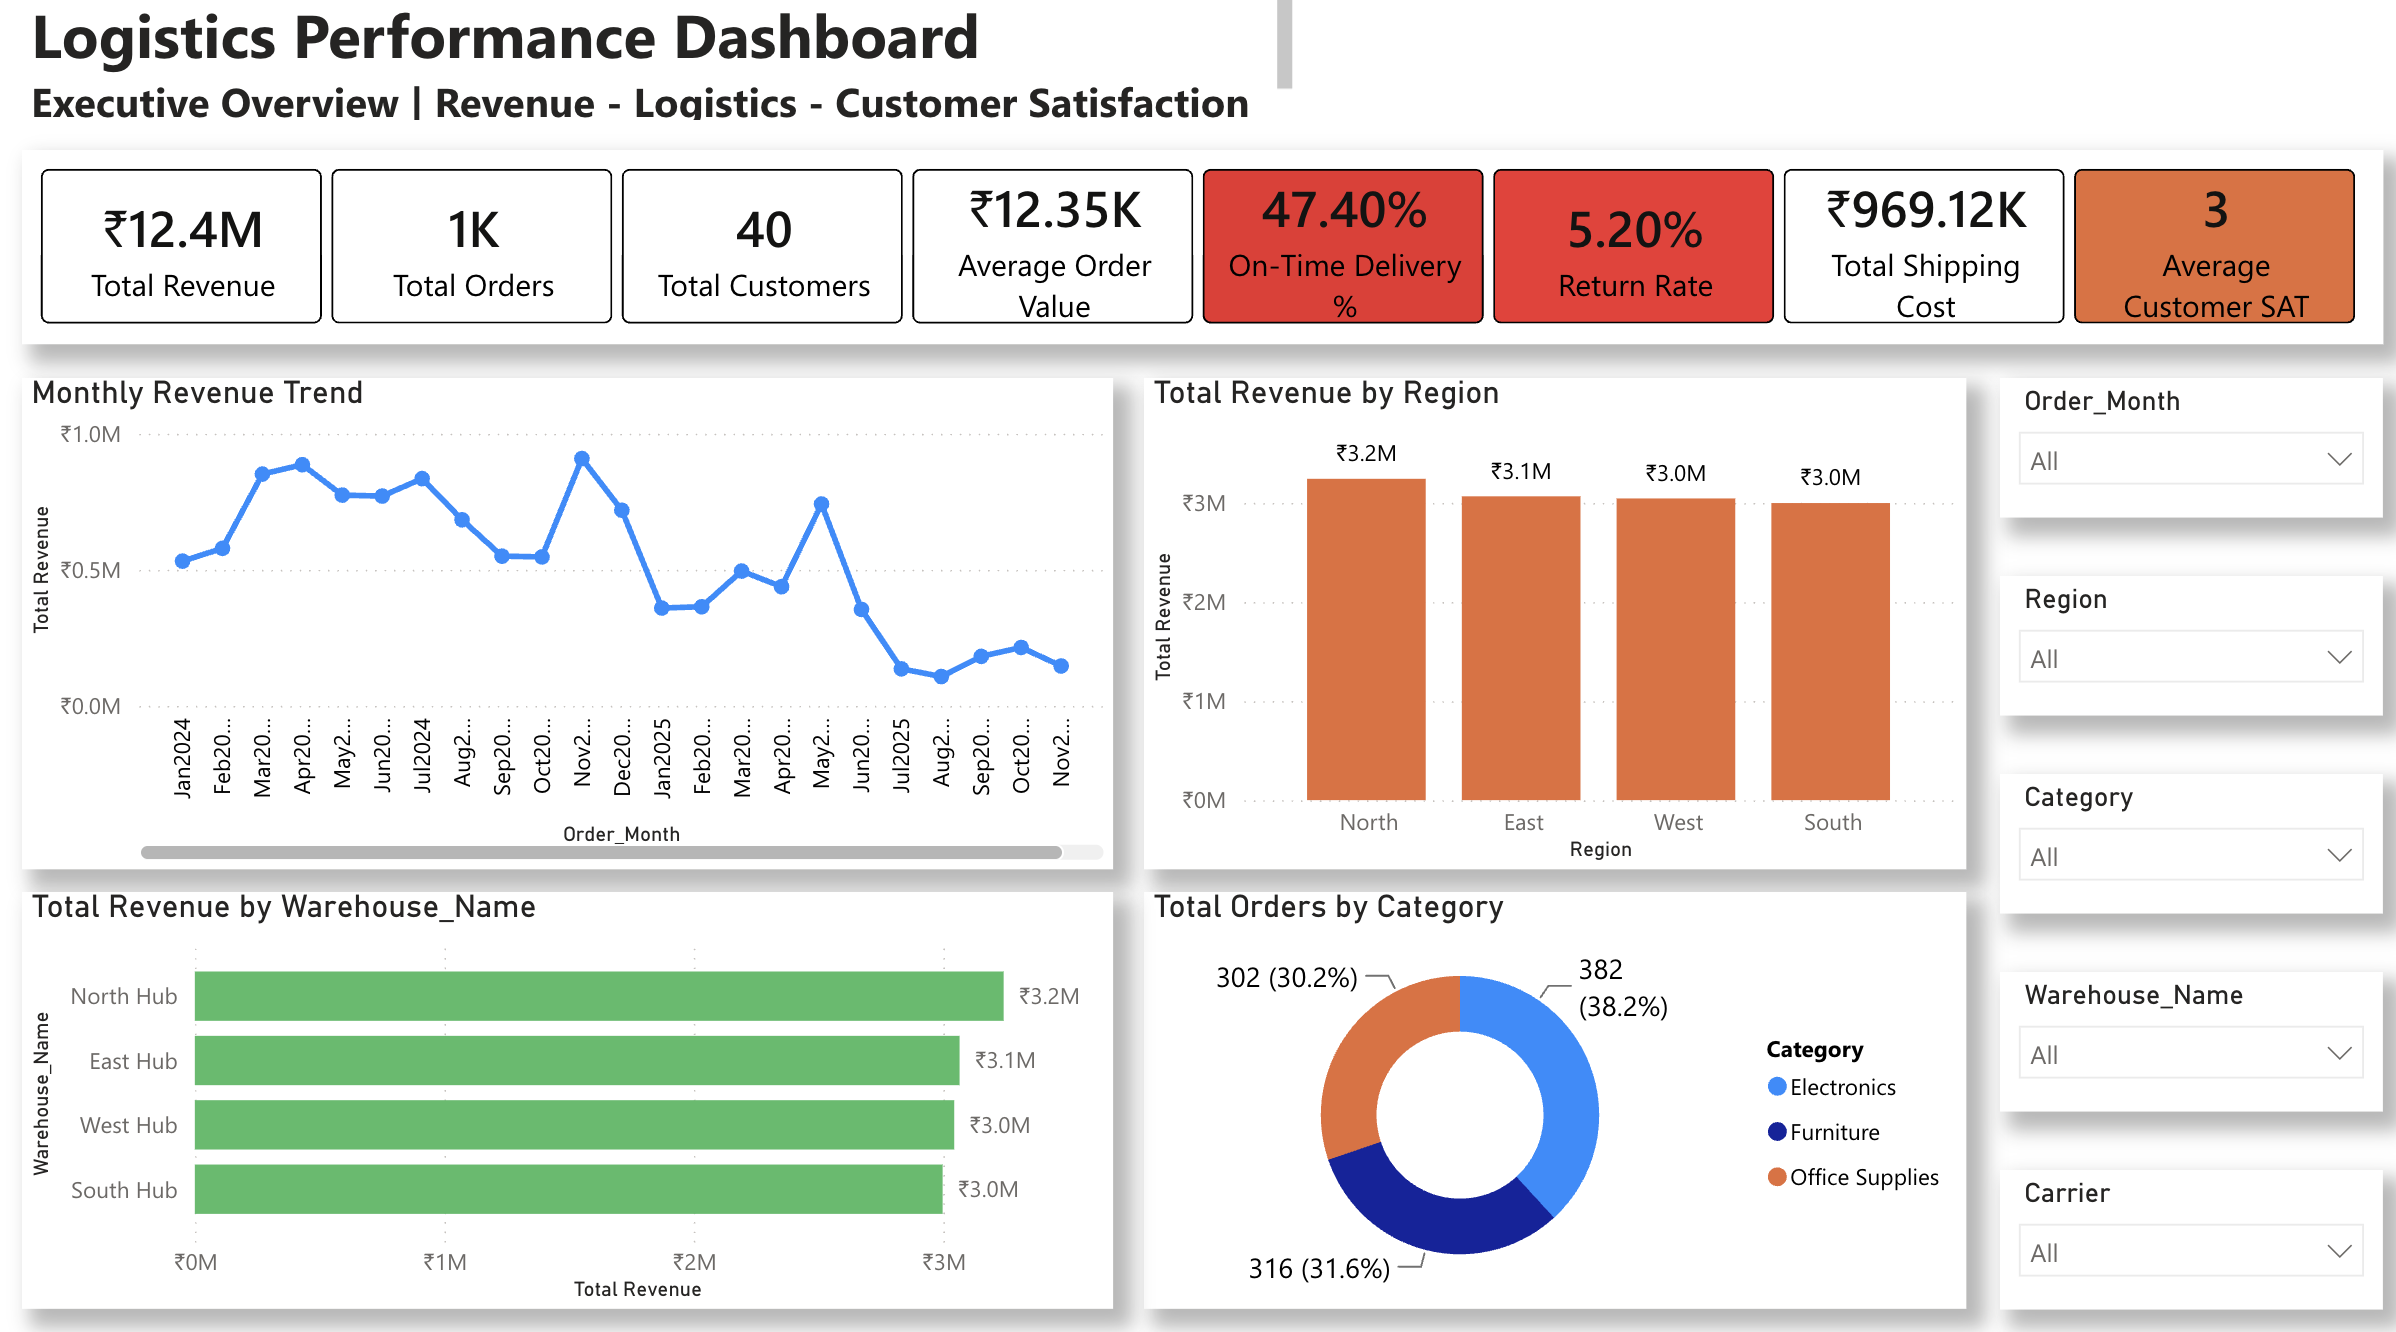

This screenshot's page, from the dashboard's own definition file:
{"tool":"powerbi","page":{"name":"Logistics Performance Dashboard","canvas":[1280,720],"ordinal":0},"visuals":[{"type":"cardVisual","fields":{"Data":["Orders.Total Revenue","Orders.Total Orders","Orders.Total Customers","Orders.Average Order Value","Orders.On-Time Delivery %","Orders.Return Rate","Orders.Total Shipping Cost","Orders.Average CSAT"]},"box":[16.7,87.8,1252.2,103],"z":0},{"type":"lineChart","title":"Monthly Revenue Trend","fields":{"Y":["Orders.Total Revenue"],"Category":["Orders.Order_Month"]},"box":[16.7,209,578.4,260.4],"z":1000},{"type":"clusteredColumnChart","fields":{"Category":["Orders.Region"],"Y":["Orders.Total Revenue"]},"box":[611.7,209,436.1,260.4],"z":2000},{"type":"donutChart","fields":{"Category":["Orders.Category"],"Y":["Orders.Total Orders"]},"box":[611.7,481.5,436.1,221.1],"z":3000},{"type":"clusteredBarChart","fields":{"Category":["Orders.Warehouse_Name"],"Y":["Orders.Total Revenue"]},"box":[16.7,481.5,578.4,221.1],"z":4000},{"type":"slicer","fields":{"Values":["Orders.Order_Month"]},"box":[1066,209,202.9,74.2],"z":5000},{"type":"slicer","fields":{"Values":["Orders.Category"]},"box":[1066,418.7,202.9,74.2],"z":6000},{"type":"slicer","fields":{"Values":["Orders.Warehouse_Name"]},"box":[1066,523.5,202.9,74.2],"z":7000},{"type":"slicer","fields":{"Values":["Orders.Region"]},"box":[1066,313.8,202.9,74.2],"z":8000},{"type":"slicer","fields":{"Values":["Orders.Carrier"]},"box":[1066,628.4,202.9,74.2],"z":9000},{"type":"textbox","box":[16.7,0,678.4,77.2],"z":10000}]}

Visuals, with their boxes in screenshot pixels (x1, y1, x2, y2), scaled from the page's 1280x720 canvas onto the 2396x1332 screenshot:
cardVisual - Orders.Total Revenue x Orders.Total Orders: region(31, 162, 2375, 353)
"Monthly Revenue Trend" lineChart: region(31, 387, 1114, 868)
clusteredColumnChart - Orders.Region x Orders.Total Revenue: region(1145, 387, 1961, 868)
donutChart - Orders.Category x Orders.Total Orders: region(1145, 891, 1961, 1300)
clusteredBarChart - Orders.Warehouse_Name x Orders.Total Revenue: region(31, 891, 1114, 1300)
slicer - Orders.Order_Month: region(1995, 387, 2375, 524)
slicer - Orders.Category: region(1995, 775, 2375, 912)
slicer - Orders.Warehouse_Name: region(1995, 968, 2375, 1106)
slicer - Orders.Region: region(1995, 581, 2375, 718)
slicer - Orders.Carrier: region(1995, 1163, 2375, 1300)
textbox: region(31, 0, 1301, 143)
